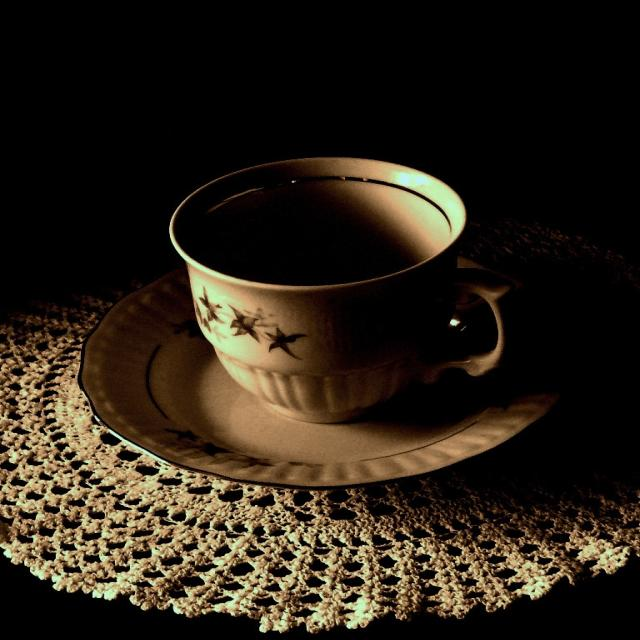Cup: (96, 161, 544, 521)
